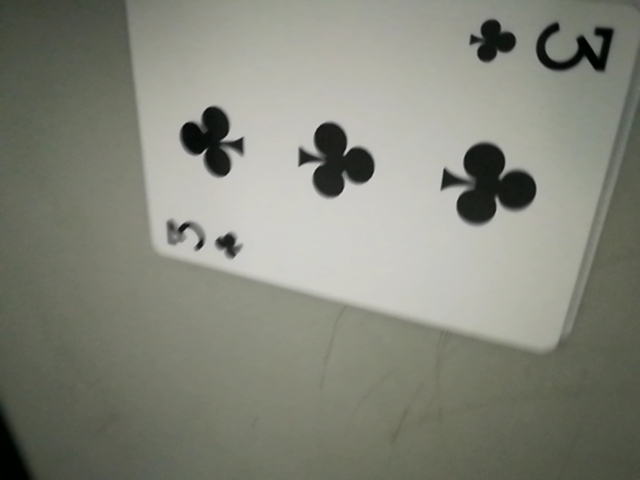mh 3: (463, 8, 611, 81), (157, 211, 247, 265)
